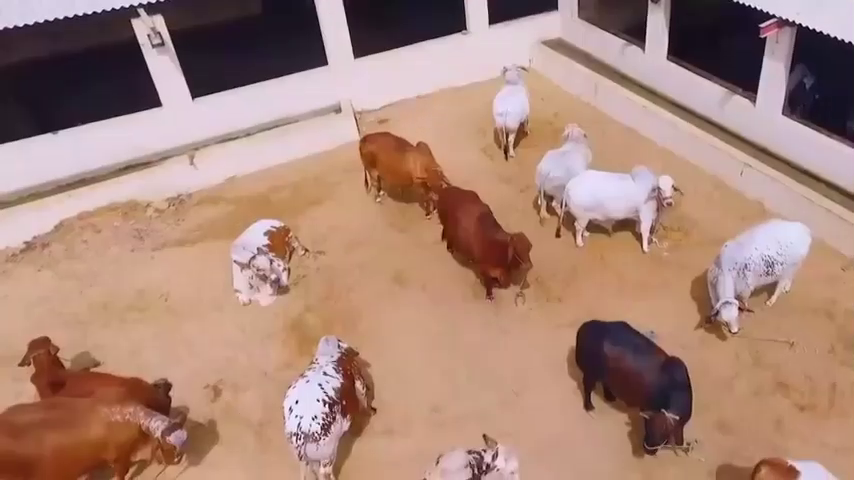bo: (565, 310, 694, 461), (6, 385, 195, 475), (278, 331, 380, 479), (17, 325, 184, 414), (428, 183, 544, 310), (704, 220, 809, 333), (565, 165, 684, 258), (213, 213, 318, 305), (354, 119, 448, 213), (420, 425, 532, 478), (534, 120, 588, 220), (486, 58, 533, 164), (747, 454, 839, 480)
